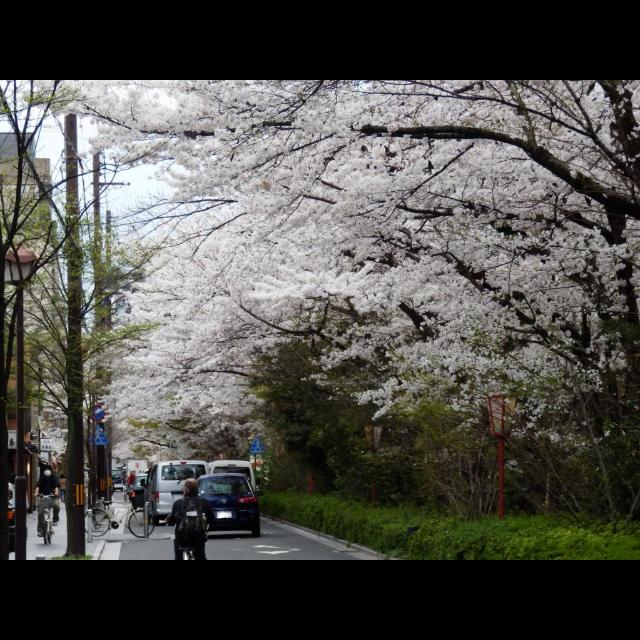Flower: (27, 80, 639, 448), (207, 408, 223, 417)
